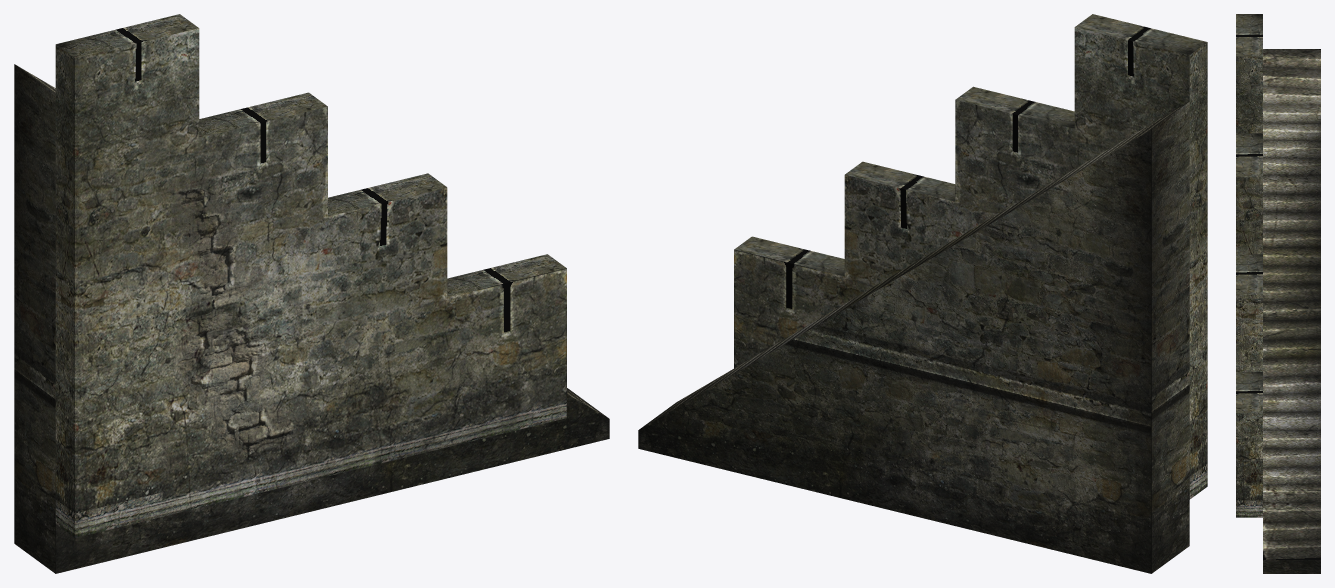
File: bridge_03_stairs_LOD.fbx
3 renders of one model, left to right at view 1: azimuth 30°, elevation 25°; view 2: azimuth 150°, elevation 25°; view 3: azimuth 270°, elevation 25°, orthographic. The views are drawn at different scales.
Visible parts, largest first — view 1: Mesh Object; view 2: Mesh Object; view 3: Mesh Object.
Part boxes in pixels (x1,y1,x2,y2): Mesh Object: (14,14,609,573); Mesh Object: (638,14,1207,573); Mesh Object: (1236,14,1320,573).
Bounding box in the file's own units: 11.6 × 10.6 × 2.2.
